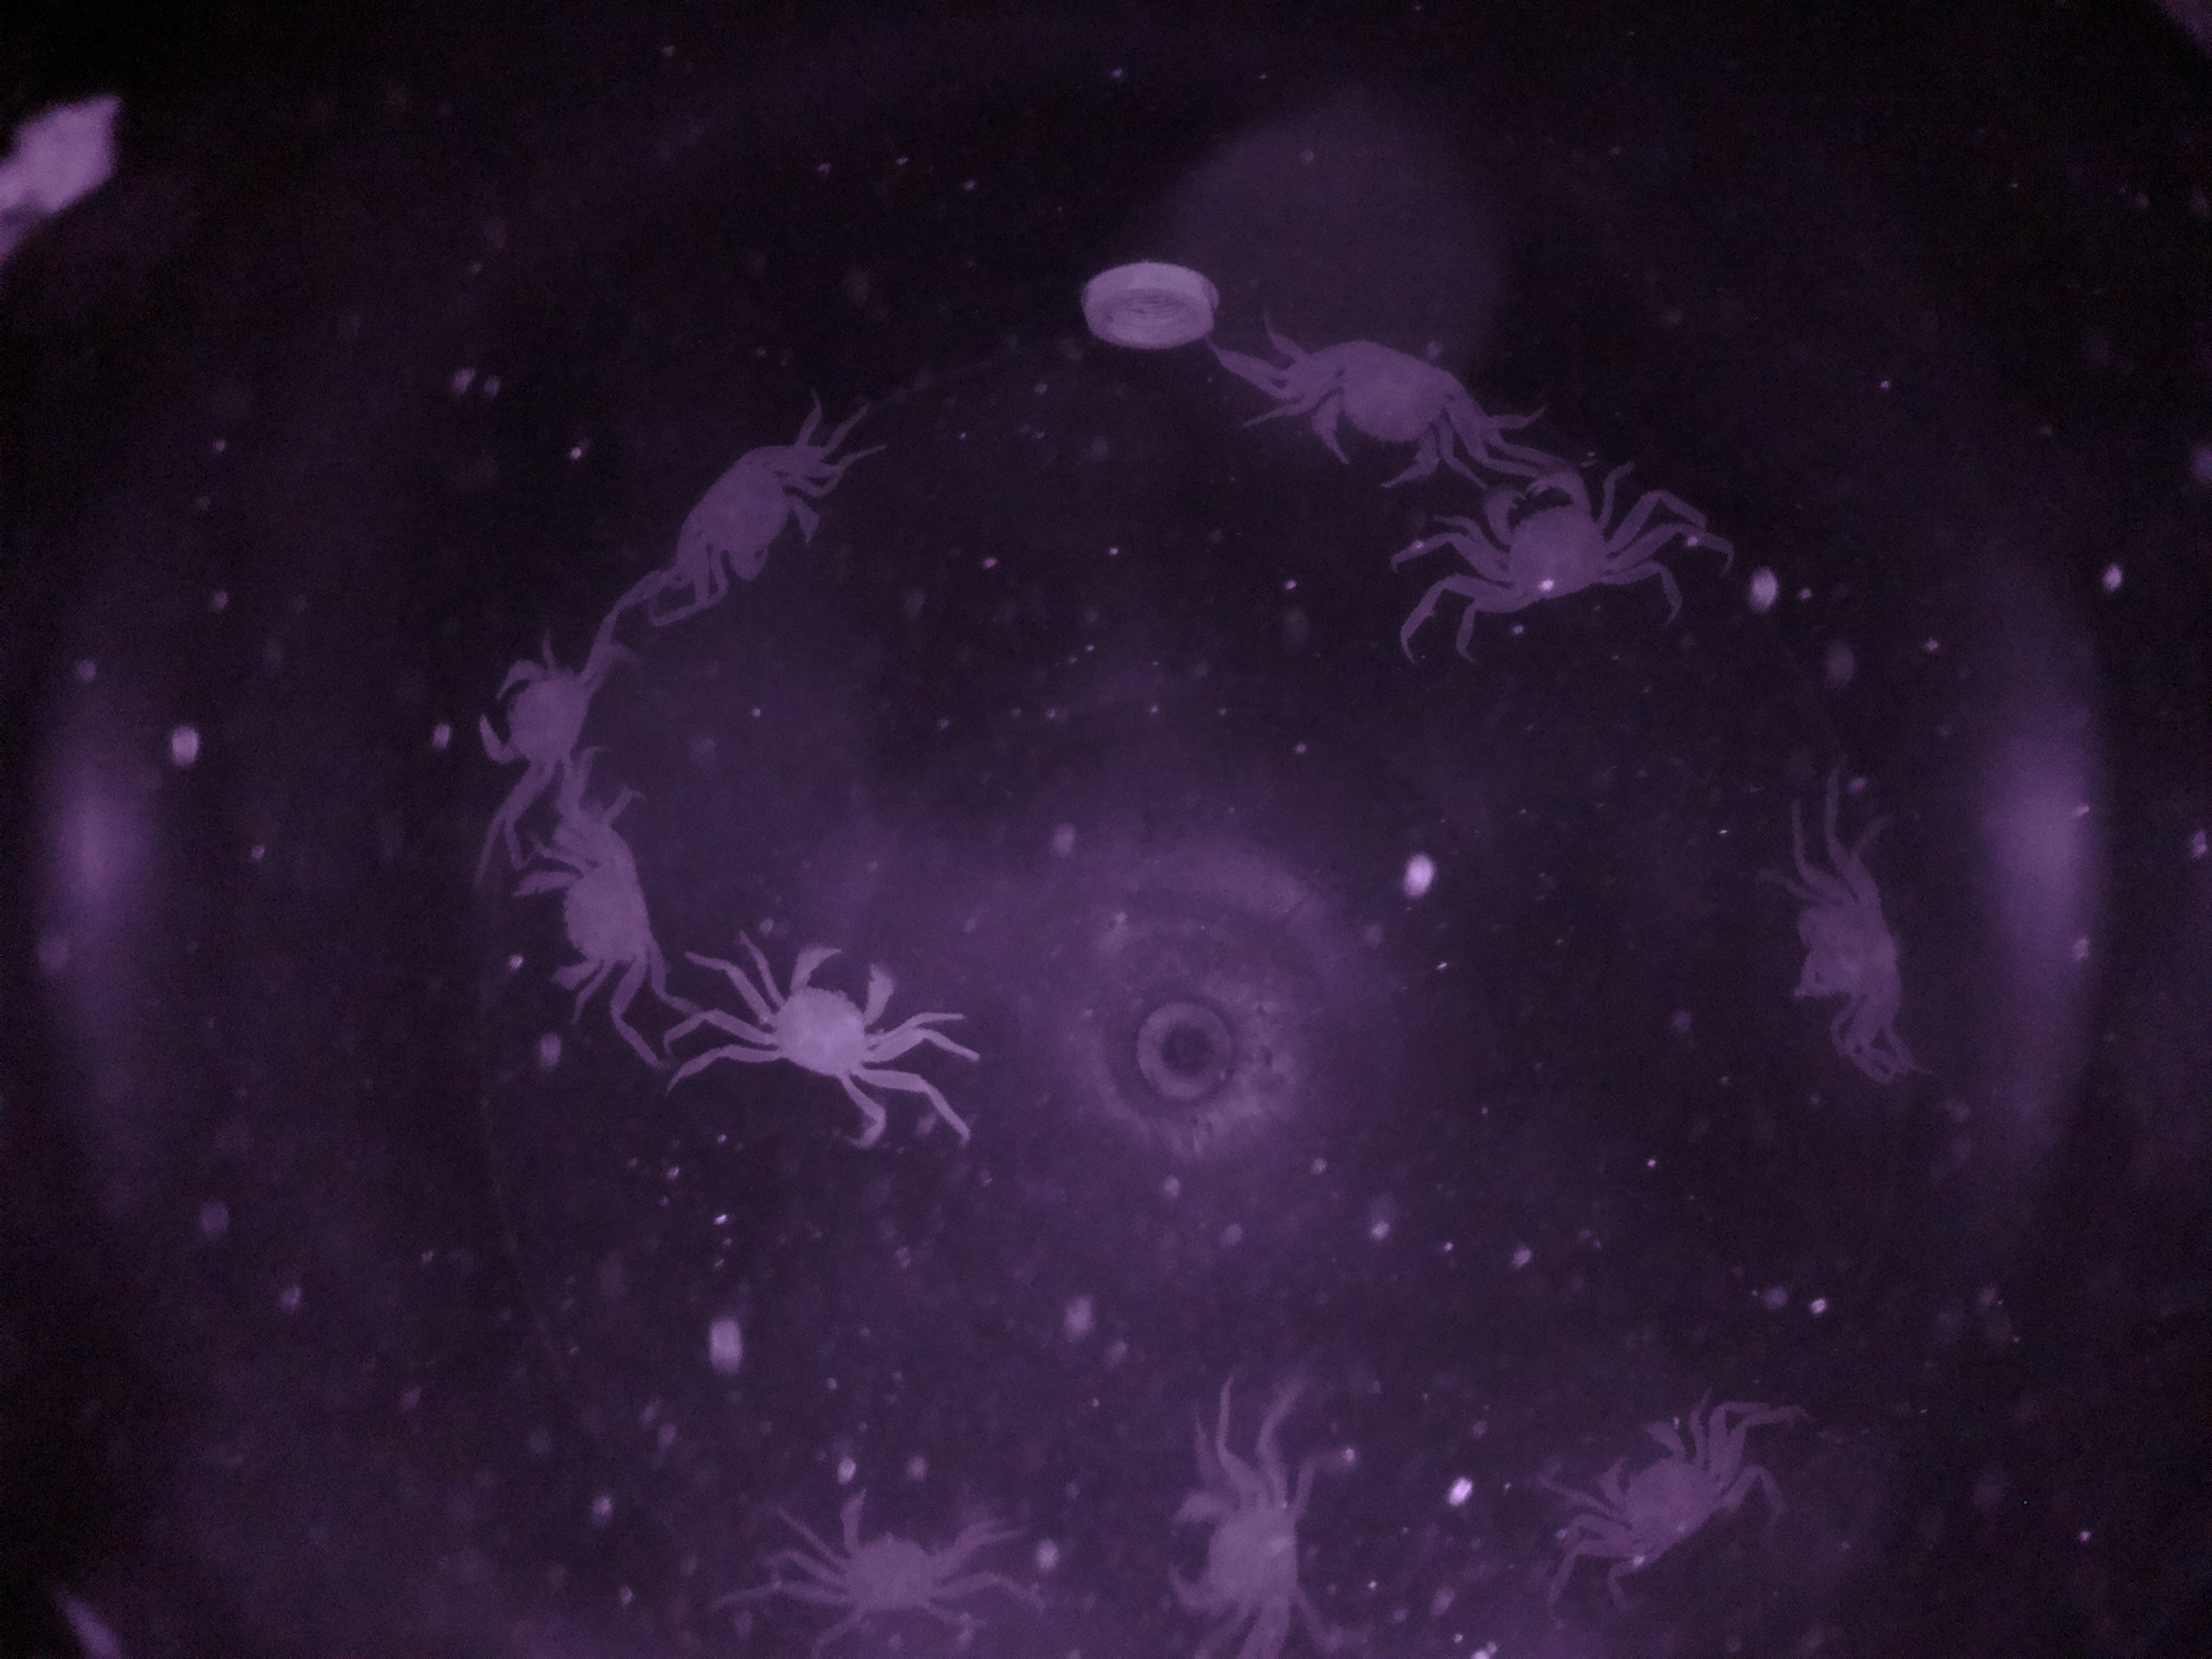Crab: (1273, 324, 1508, 495), (1458, 451, 1648, 648), (1562, 1387, 1738, 1584), (496, 826, 685, 1009), (1162, 1455, 1345, 1643), (730, 932, 928, 1094), (655, 418, 827, 599), (812, 1462, 991, 1635), (456, 626, 615, 788)
